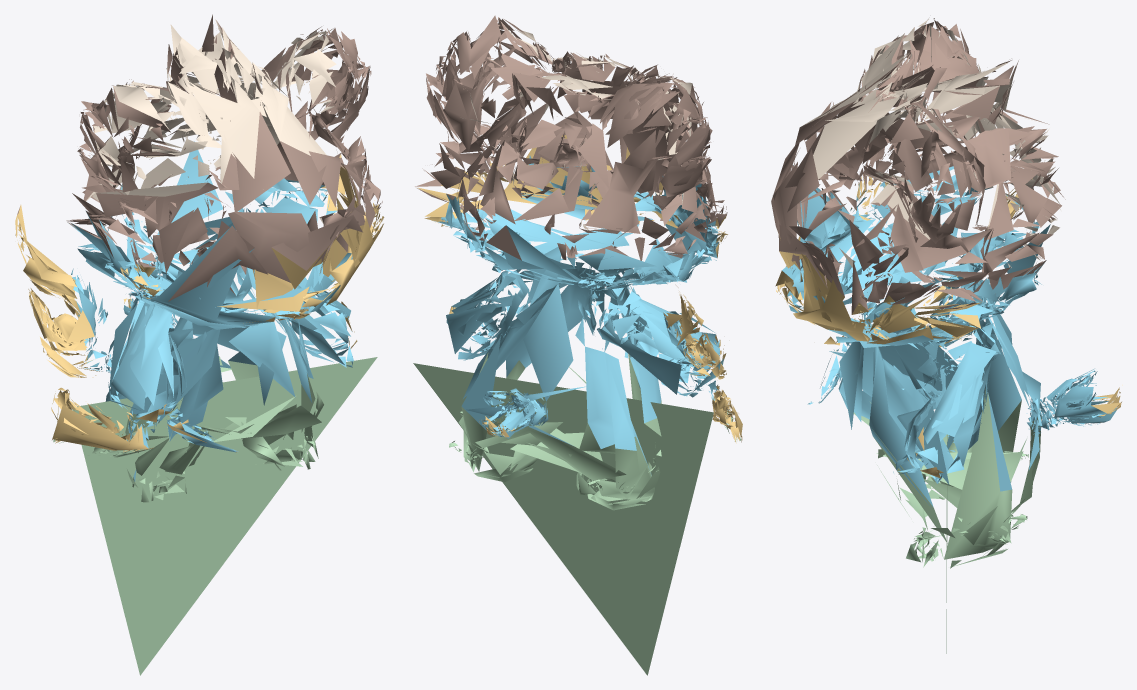
File: statue_segmented.glb
3 renders of one model, left to right at view 1: azimuth 30°, elevation 25°; view 2: azimuth 150°, elevation 25°; view 3: azimuth 270°, elevation 25°, orthographic. The views are drawn at different scales.
Parts seen in each view (by area): view 1: Part_03_Thân, Part_01_Tóc, Part_02_Thân, Part_00_Đầu, Part_04_Tay; view 2: Part_01_Tóc, Part_02_Thân, Part_03_Thân, Part_04_Tay, Part_00_Đầu; view 3: Part_01_Tóc, Part_02_Thân, Part_03_Thân, Part_00_Đầu, Part_04_Tay.
Part boxes in pixels (bbox=[...]): Part_03_Thân: bbox=[53, 309, 377, 675]; Part_01_Tóc: bbox=[17, 14, 382, 301]; Part_02_Thân: bbox=[68, 141, 353, 481]; Part_00_Đầu: bbox=[86, 19, 336, 228]; Part_04_Tay: bbox=[15, 154, 384, 452]; Part_01_Tóc: bbox=[415, 15, 727, 287]; Part_02_Thân: bbox=[434, 155, 723, 475]; Part_03_Thân: bbox=[413, 352, 741, 675]; Part_04_Tay: bbox=[418, 135, 742, 443]; Part_00_Đầu: bbox=[462, 22, 692, 252]; Part_01_Tóc: bbox=[771, 18, 1065, 314]; Part_02_Thân: bbox=[782, 165, 1116, 506]; Part_03_Thân: bbox=[853, 389, 1041, 653]; Part_00_Đầu: bbox=[801, 19, 1060, 267]; Part_04_Tay: bbox=[775, 161, 1122, 478].
Bounding box in the file's own units: 1.27 × 2.27 × 1.09.
